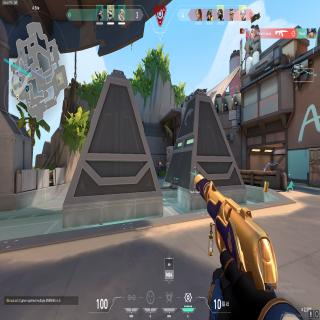ENEMY-BODY: (157, 162, 160, 176)
ENEMY-HEAD: (158, 162, 159, 165)
